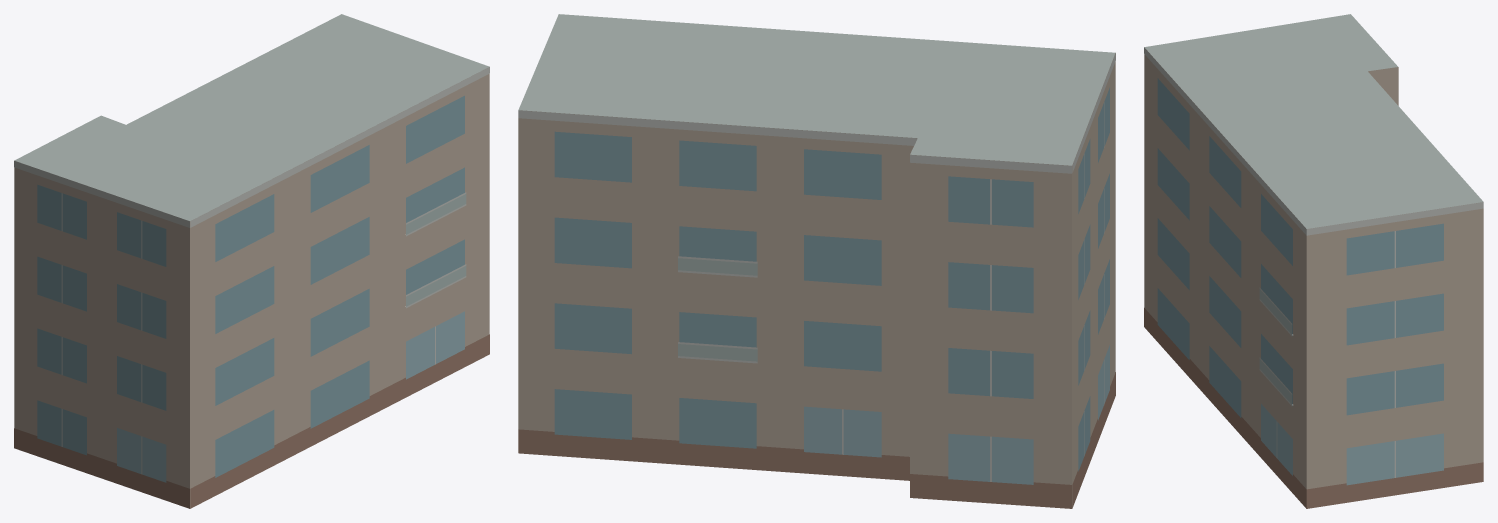
File: survey-upis-32724095.glb
3 views of the same model, side by side, from view 1: azimuth 30°, elevation 25°; view 2: azimuth 150°, elevation 25°; view 3: azimuth 270°, elevation 25° (orthographic). The views are drawn at different scales.
Parts seen in each view (by area): view 1: survey-upis-32724095.tmp; view 2: survey-upis-32724095.tmp; view 3: survey-upis-32724095.tmp.
Part boxes in pixels (box(x1,y1,x2,y2)): survey-upis-32724095.tmp: box(14, 14, 489, 508); survey-upis-32724095.tmp: box(518, 14, 1115, 508); survey-upis-32724095.tmp: box(1144, 14, 1483, 508).
Size of the model in its own units: 17.07 by 10.35 by 11.39.
